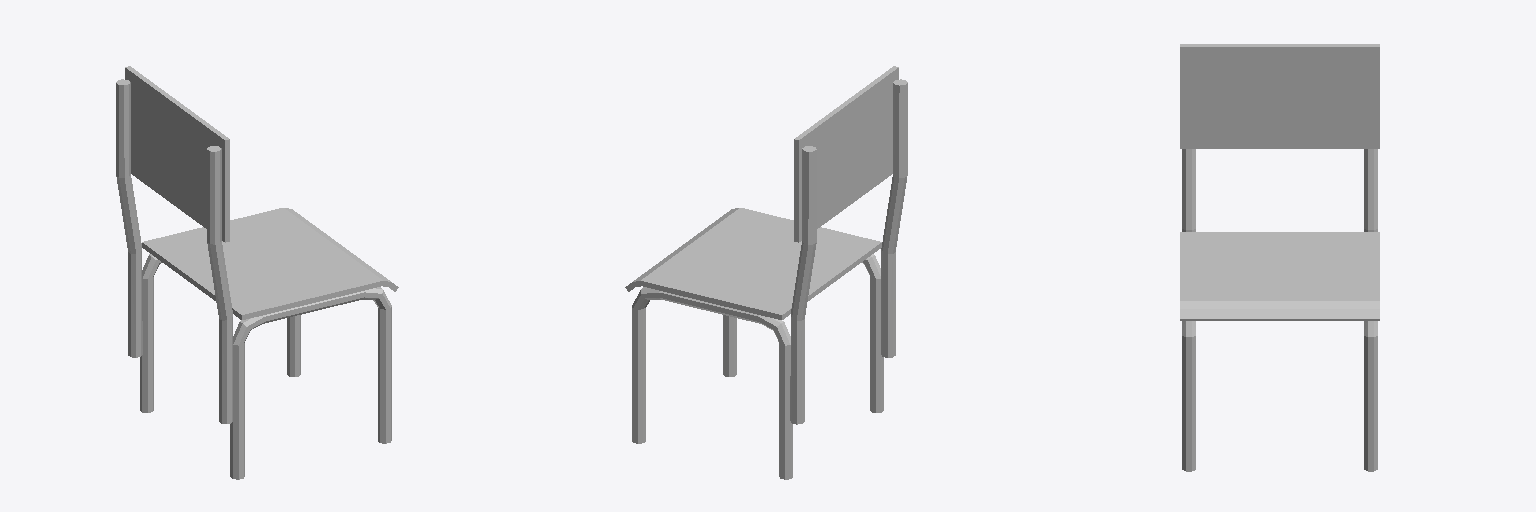
Rendered from 1_chair.obj.
3 views of the same model, side by side, from view 1: azimuth 30°, elevation 25°; view 2: azimuth 150°, elevation 25°; view 3: azimuth 270°, elevation 25° (orthographic).
Visible parts, largest first — view 1: chair:Mesh; view 2: chair:Mesh; view 3: chair:Mesh.
Part boxes in pixels (bbox=[...]): chair:Mesh: bbox=[116, 66, 398, 479]; chair:Mesh: bbox=[625, 66, 907, 479]; chair:Mesh: bbox=[1180, 44, 1379, 471].
Size of the model in its own units: 26.51 by 46.84 by 24.68.